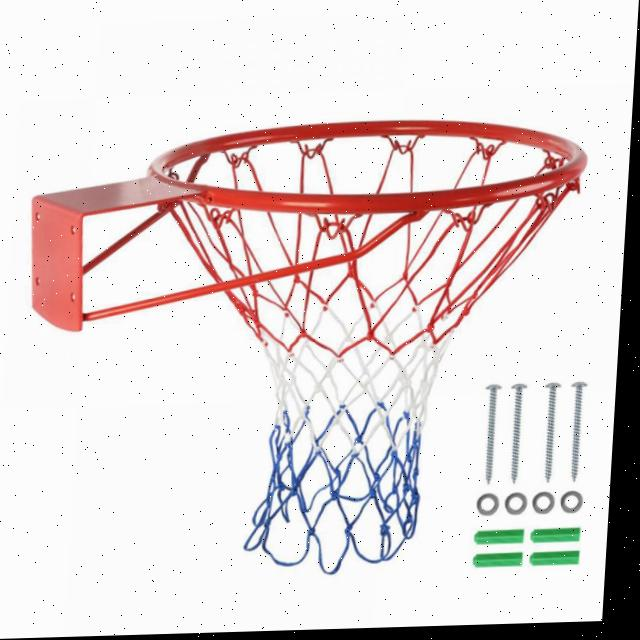hoop: (125, 113, 590, 581)
